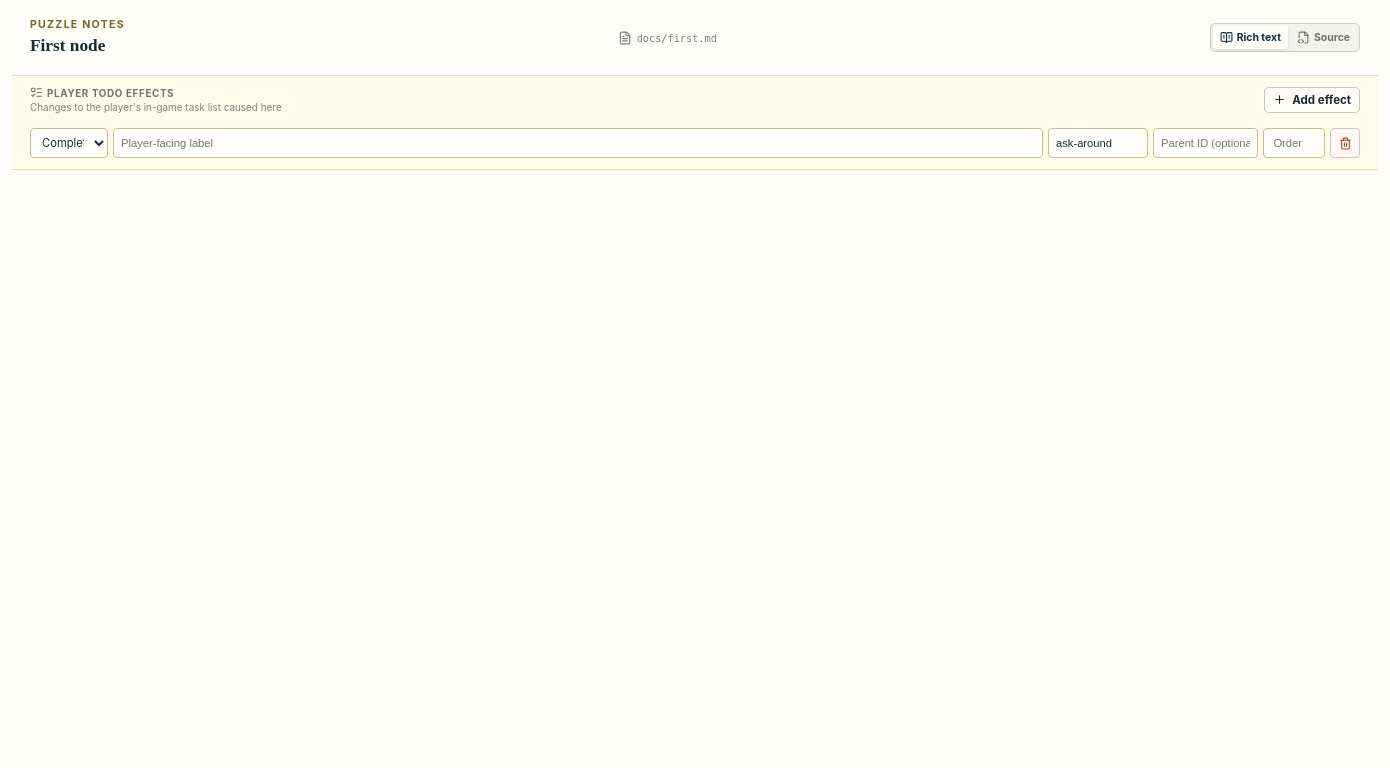
Test case: MarkdownPane selection › shows the complete file, including TODO metadata, in source mode
What coordinates should you click on to do the following:
click the button "Source"
I would click on:
 (1323, 38)
Its box is 1290,26 -> 1357,49.
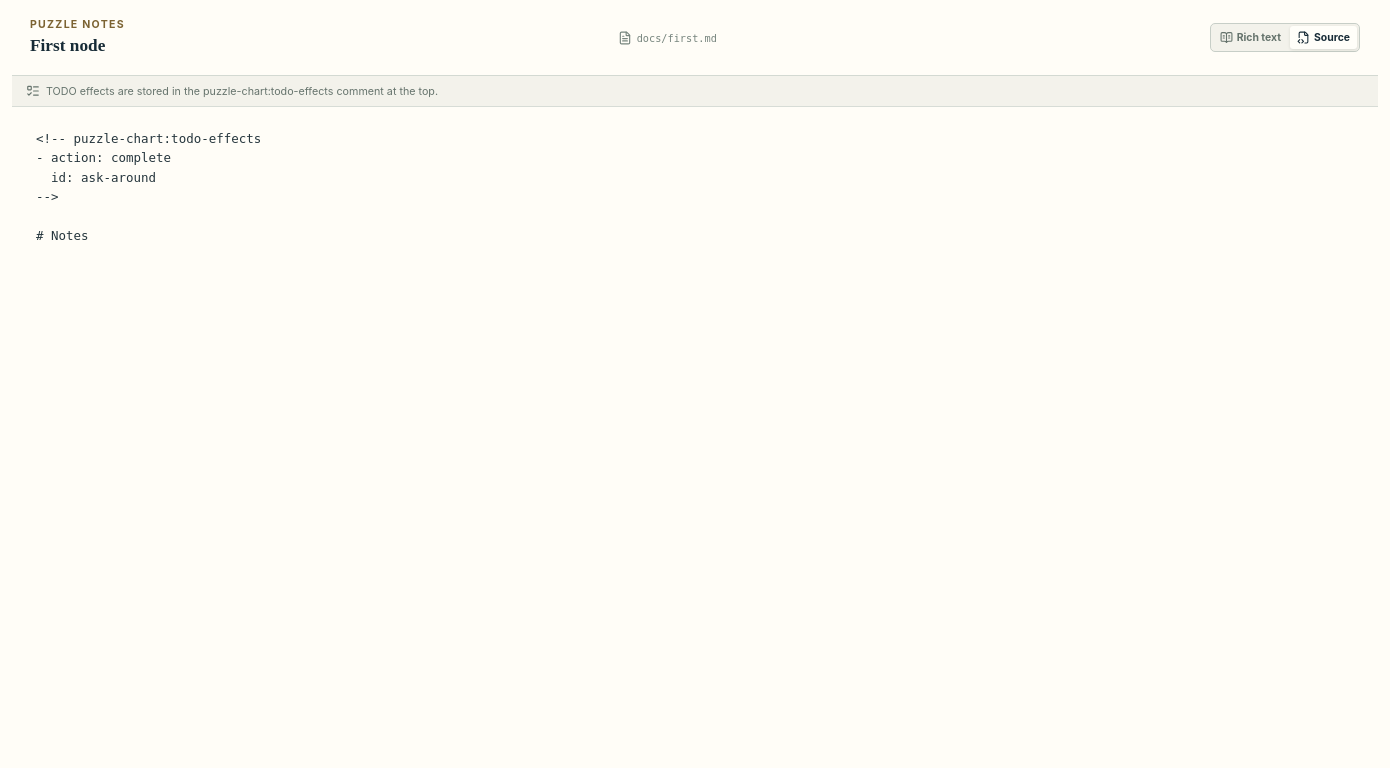
Expected: the text box named "First node Markdown source" holds "<!-- puzzle-chart:todo-effects - action: complete   id: ask-around --> # Notes "
